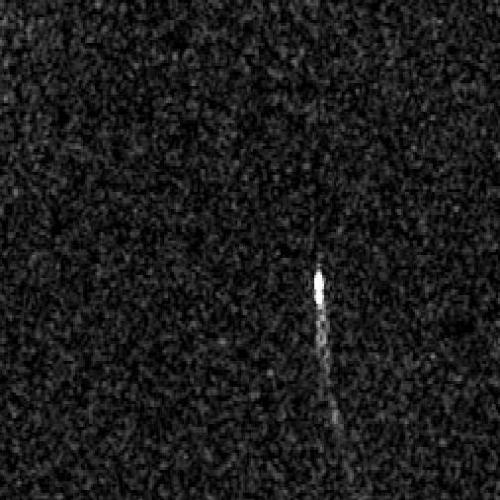ship: (314, 269, 326, 315)
